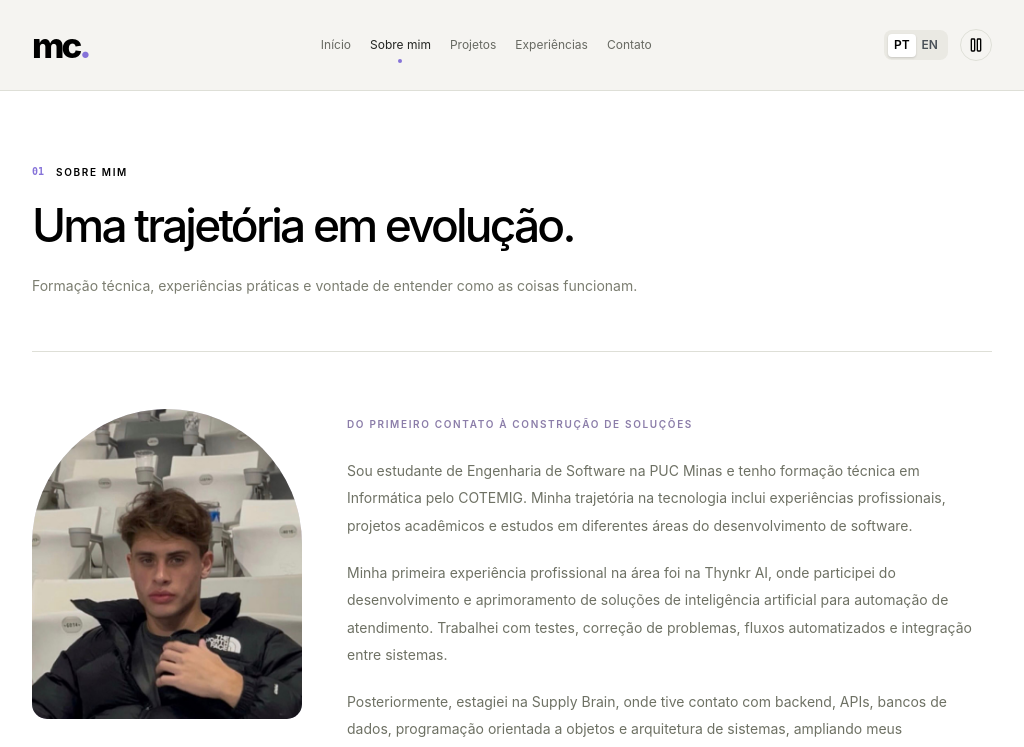
Scenario: Portfólio › switches the biography to English and updates the document language
Click the text "EN" at coordinates (930, 44), box [922,37,938,52]
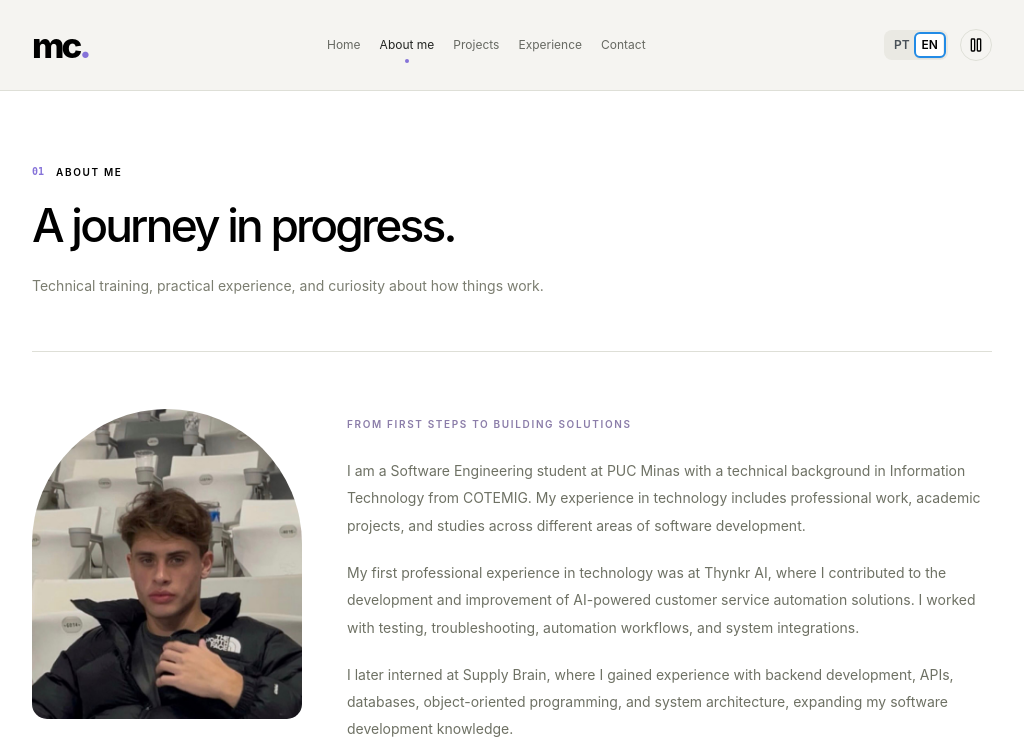
Expected: the text "I am a Software Engineering student at PUC Minas" is shown, [347,462,981,534]
